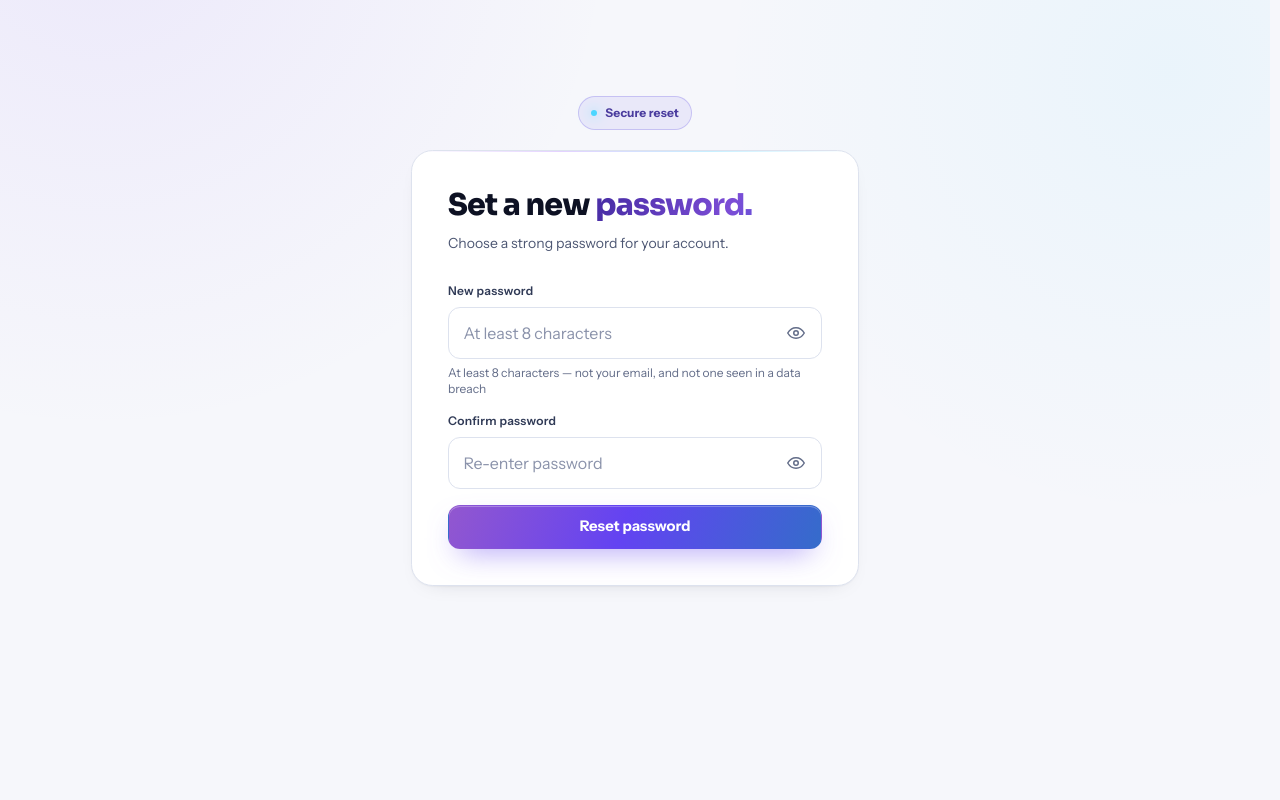
Test case: ResetPassword — a single-use token from a URL › reports an expired or already-spent link rather than silently failing
Step 1. Type "a-strong-new-password" into the password field labelled "New password" → (635, 333), box [448,307,822,359]
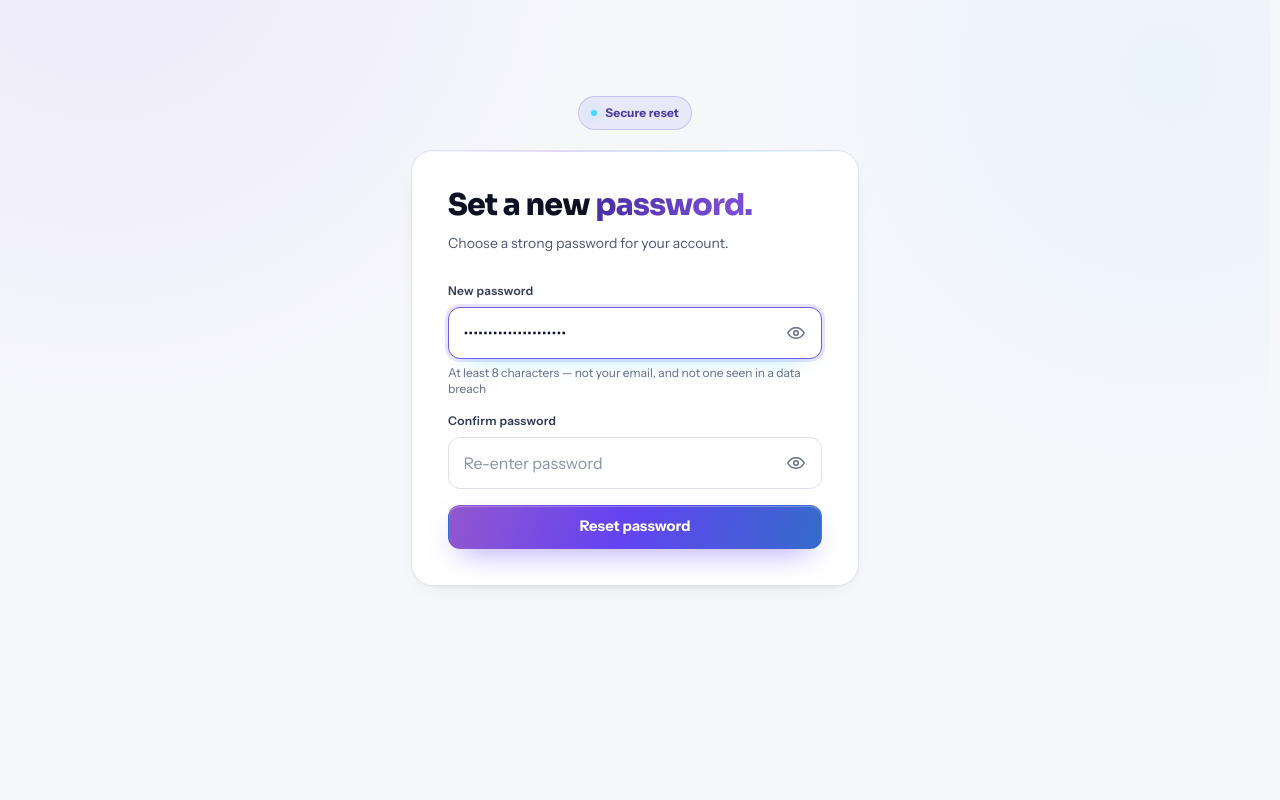
Step 2. Type "a-strong-new-password" into the password field labelled "Confirm password" → (635, 463), box [448,437,822,489]
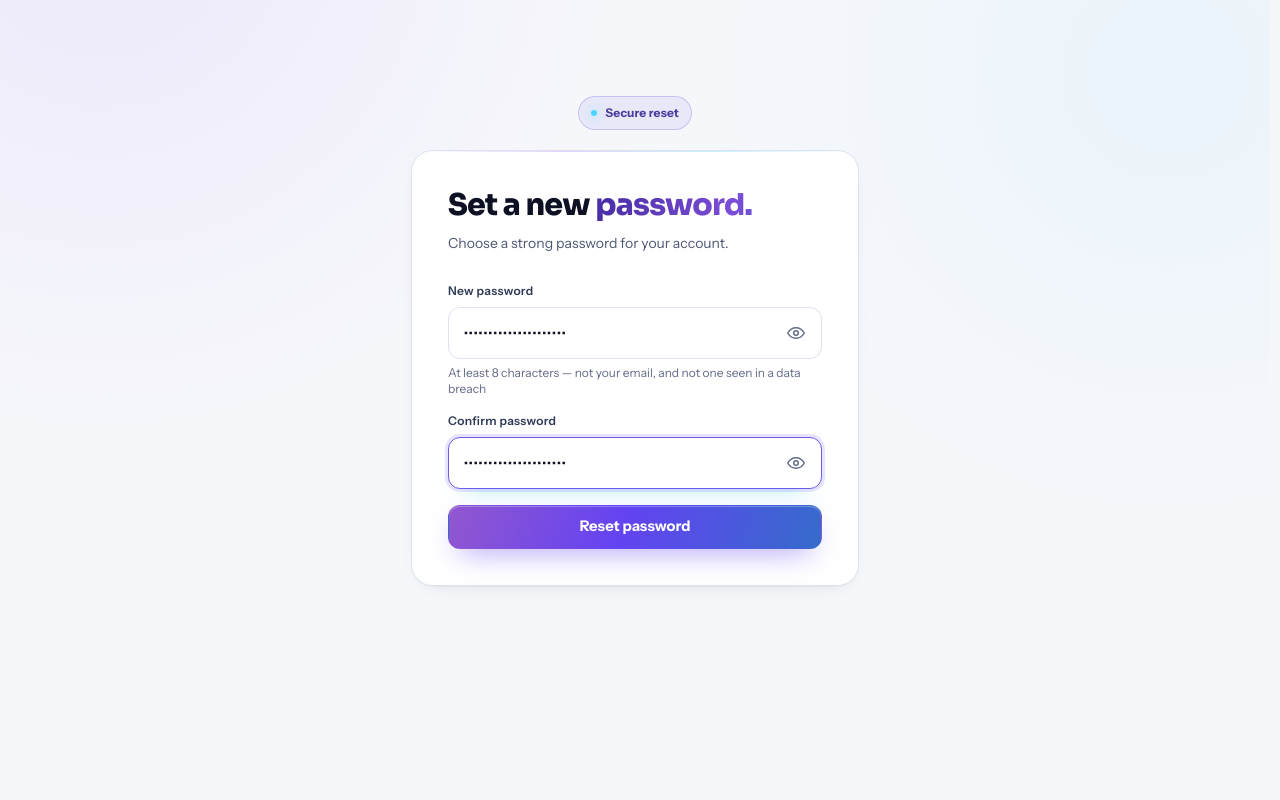
Step 3. Click the button "Reset password" → (635, 527), box [448,505,822,549]
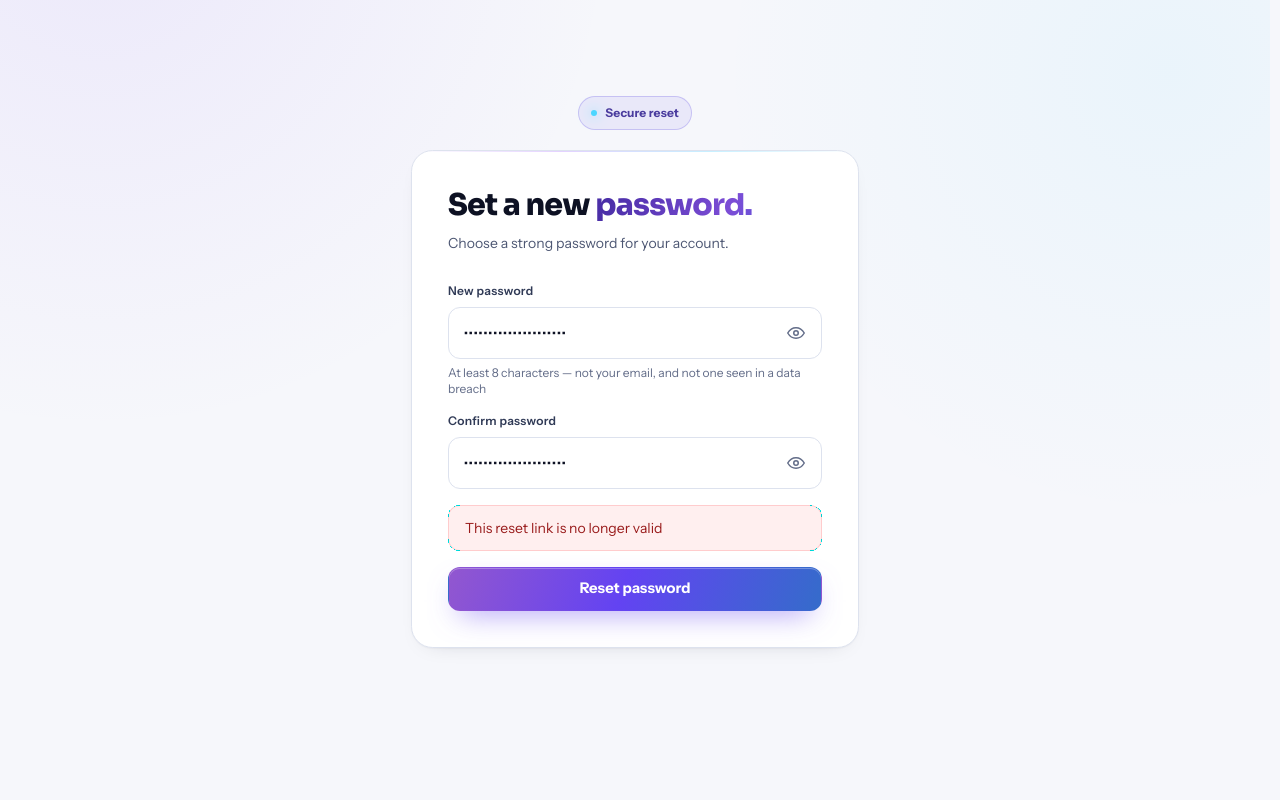
Result: the text "This reset link is no longer valid" is shown at [448,505,822,551]
